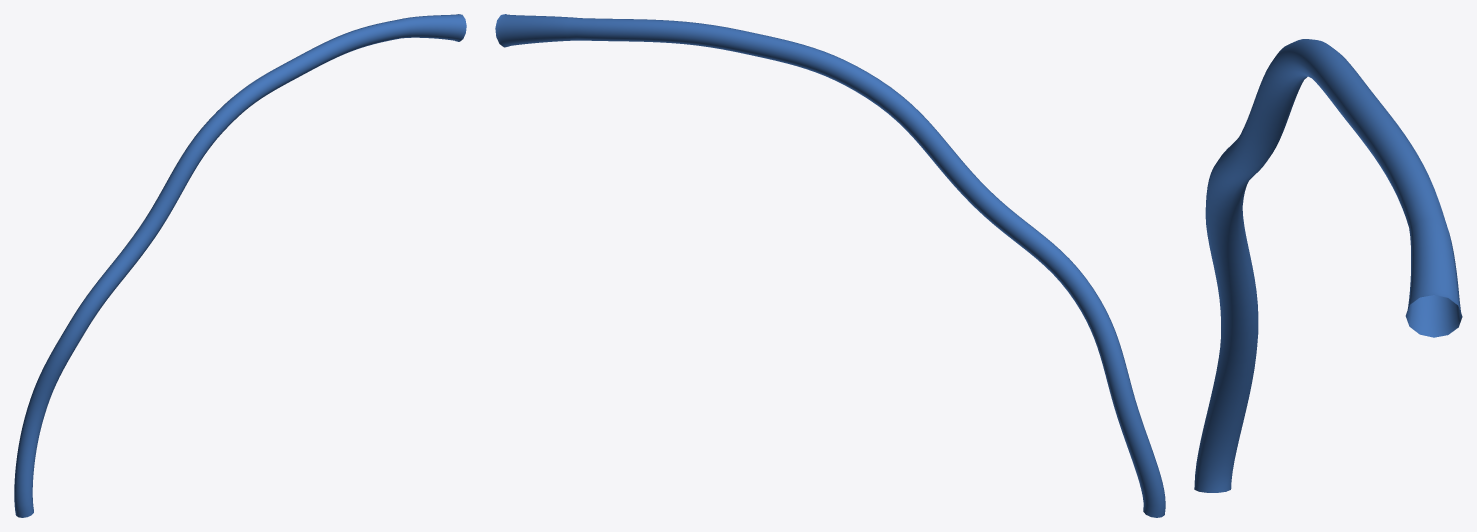
The picture shows the model from 3 angles, left to right: view 1: azimuth 30°, elevation 25°; view 2: azimuth 150°, elevation 25°; view 3: azimuth 270°, elevation 25°; orthographic projection. The views are drawn at different scales.
Parts seen in each view (by area): view 1: 右侧横窦; view 2: 右侧横窦; view 3: 右侧横窦.
Boxes of the visible parts, x1,y1,x2,y2 form: 右侧横窦: [14, 14, 466, 517]; 右侧横窦: [495, 14, 1165, 517]; 右侧横窦: [1194, 39, 1462, 492].
Bounding box in the file's own units: 0.0899 × 0.0612 × 0.0208.
